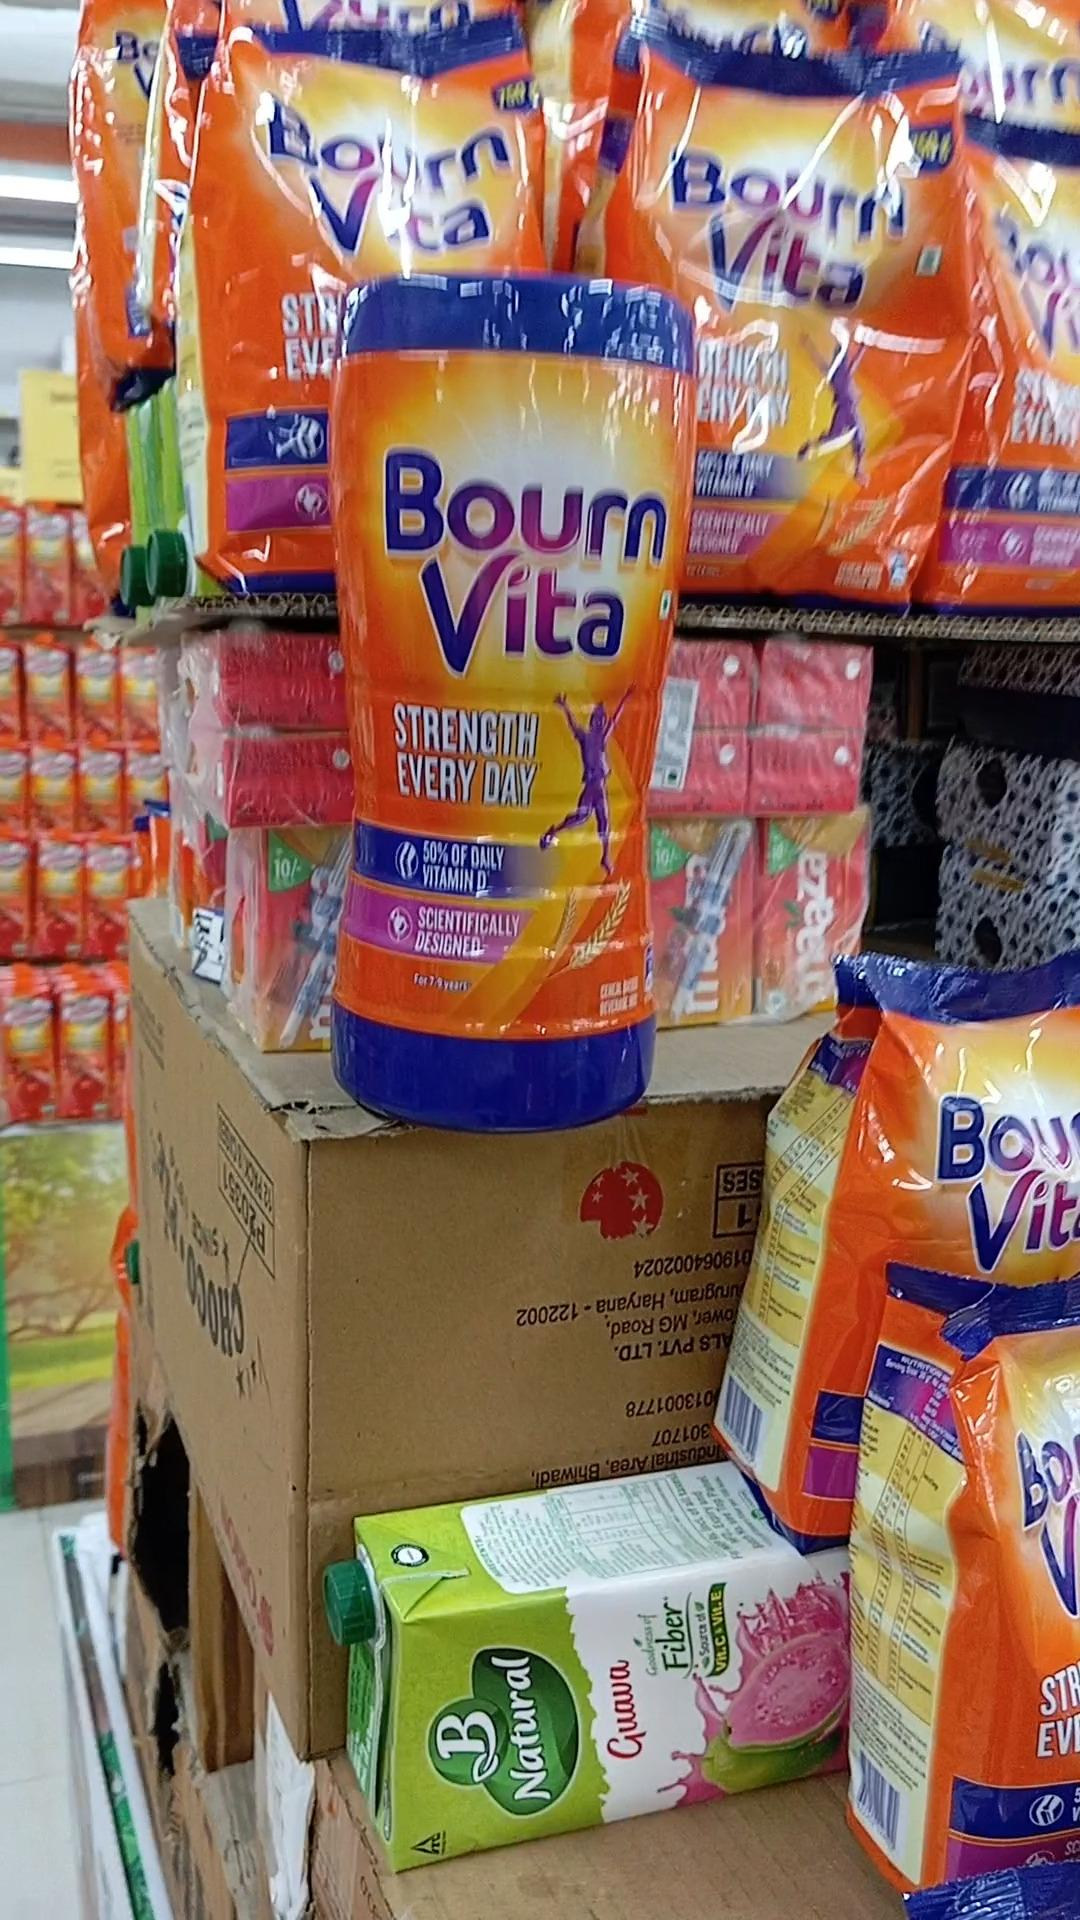BOURN_VITA_1_KG_JAR: (324, 252, 675, 1129)
